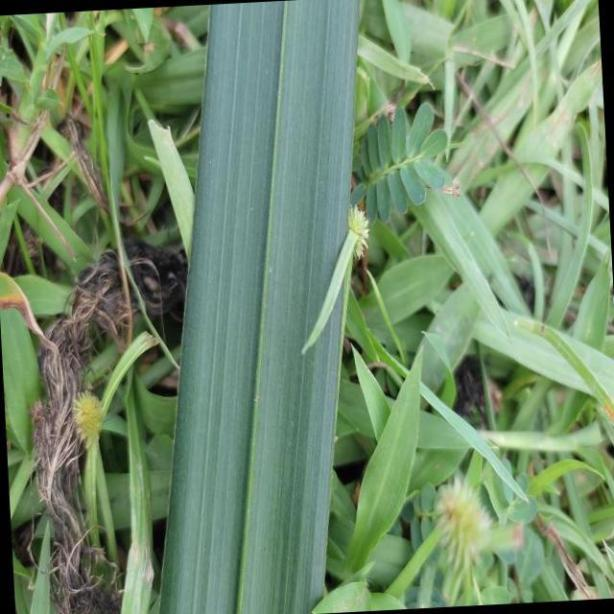Healthy: (160, 0, 358, 614)
